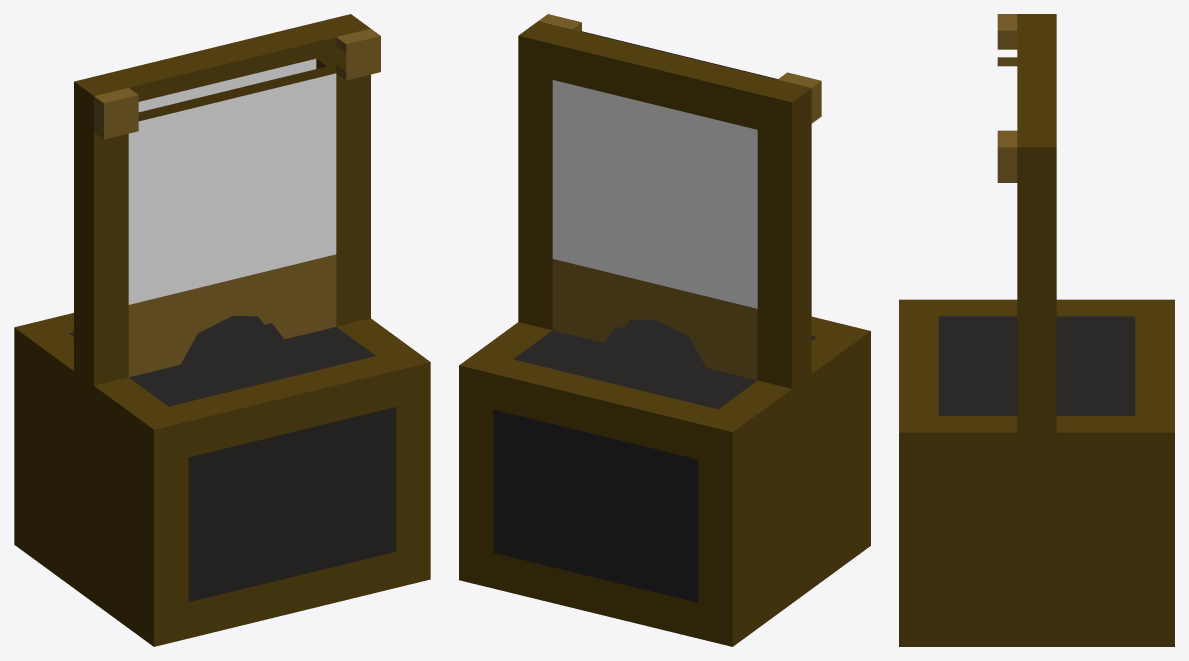
Rendered from obj_bank_booth_3_0.obj.
The picture shows the model from 3 angles, left to right: view 1: azimuth 30°, elevation 25°; view 2: azimuth 150°, elevation 25°; view 3: azimuth 270°, elevation 25°; orthographic projection.
Size of the model in its own units: 1 by 1.75 by 0.875.
